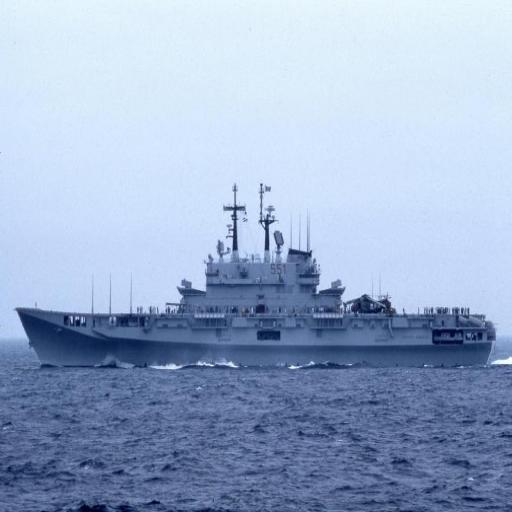Portanaves: (10, 170, 502, 377)
